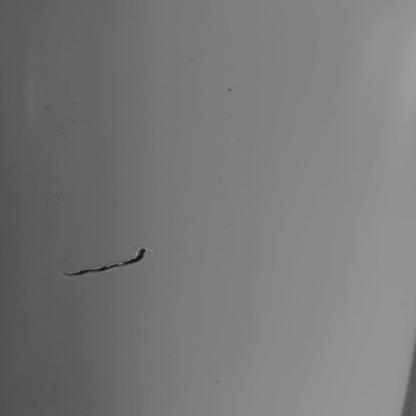fengxi: (58, 246, 147, 278)
